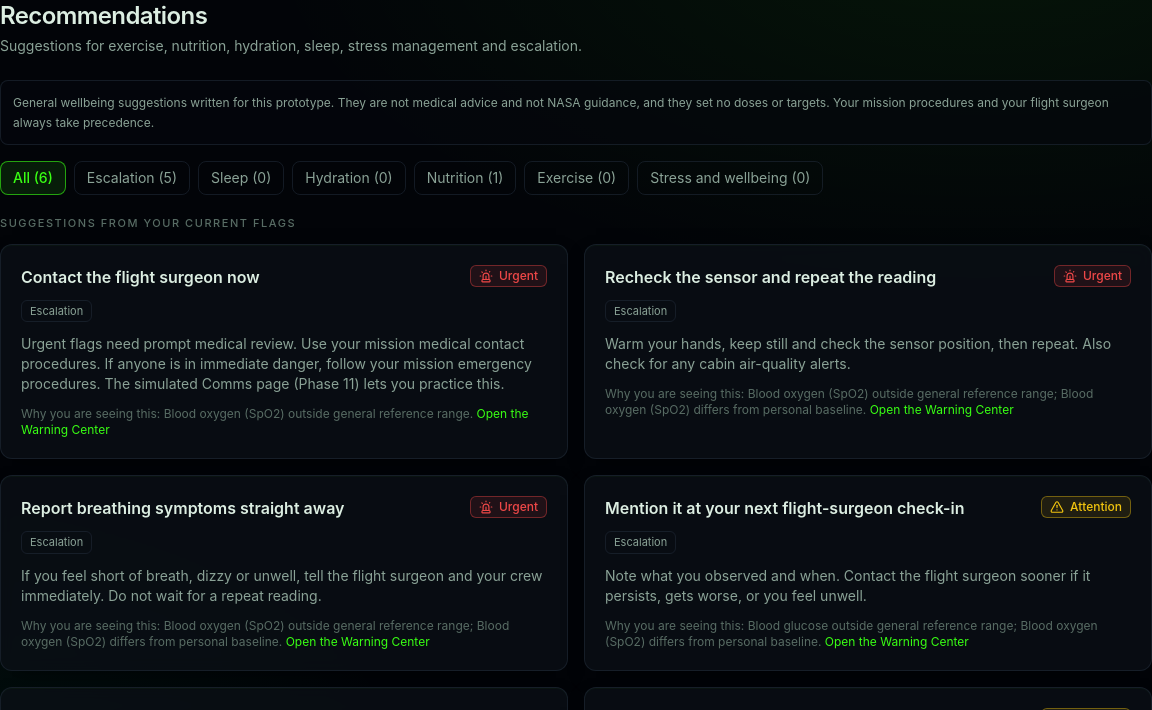
Test: Recommendations › filters suggestions by category
Click the button "Sleep (0)".
click(241, 178)  # box [198,161,284,195]
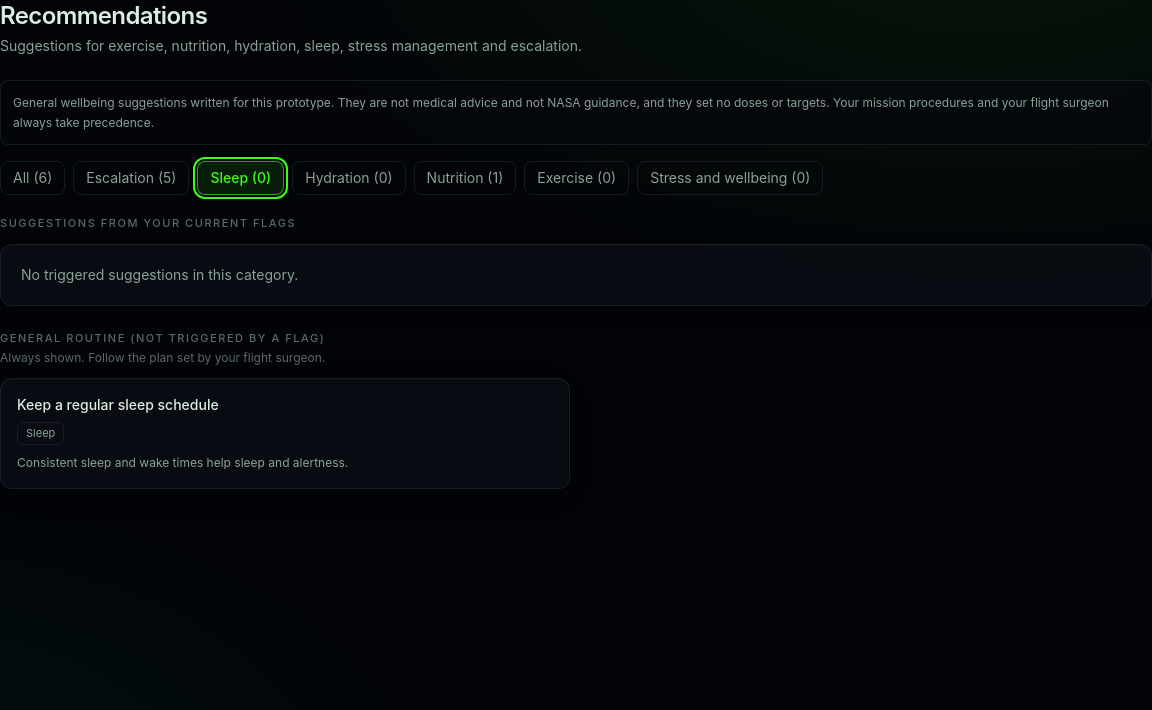
expect the heading "Contact the flight surgeon now" is gone: met
Click the button "All (6)".
click(33, 178)  # box [0,161,65,195]
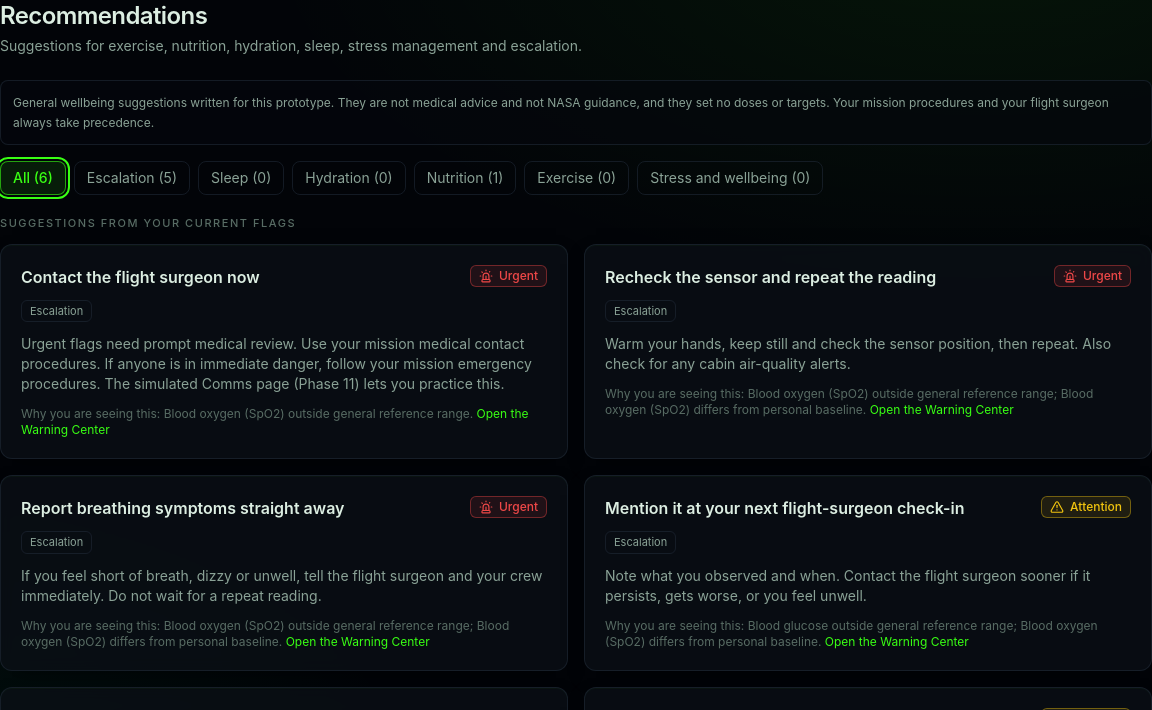
expect the heading "Contact the flight surgeon now" is shown: met, box [21,264,260,288]
